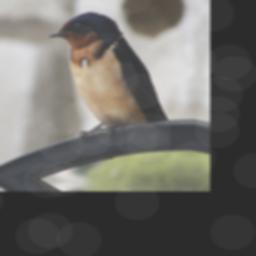Swallow: (36, 7, 183, 149)
